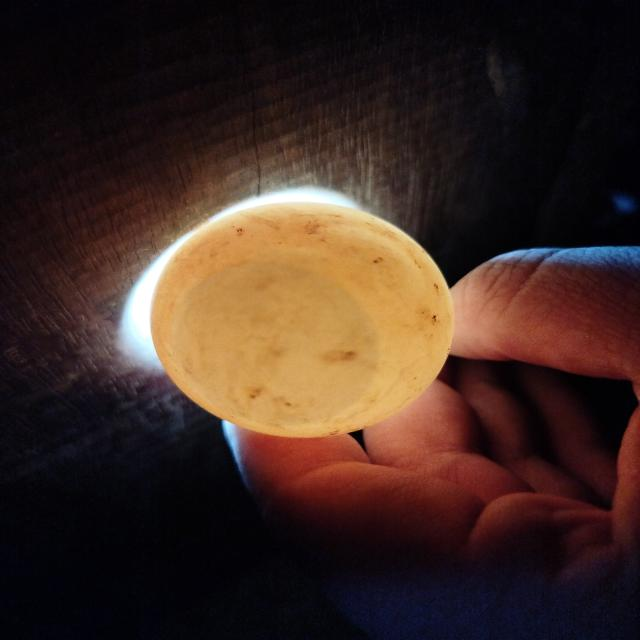Camara de Ar: (168, 261, 377, 423)
